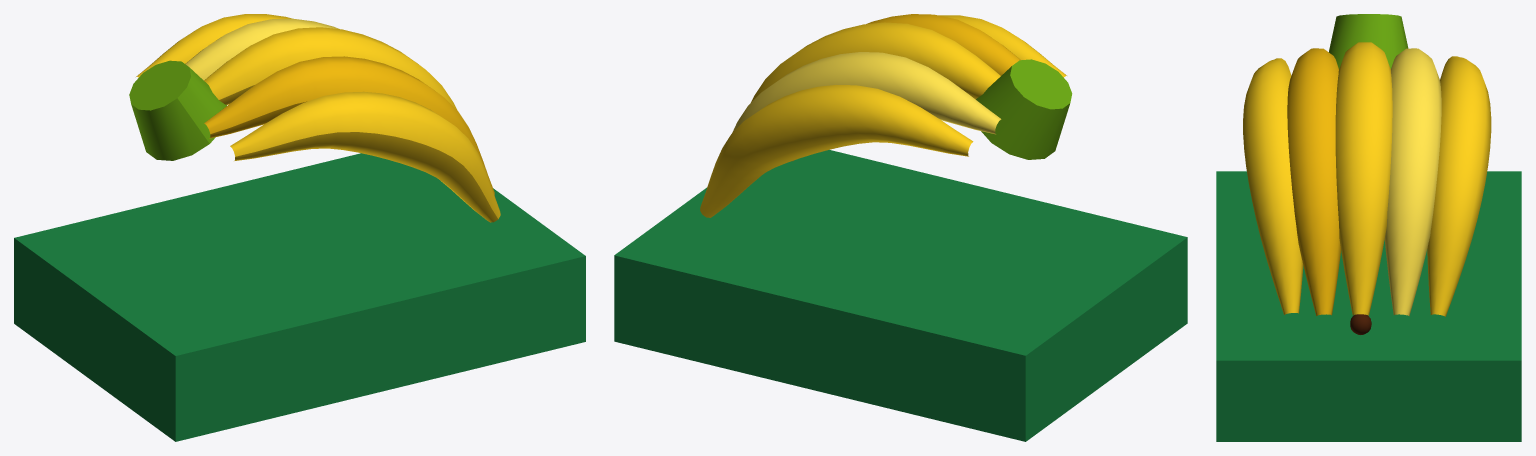
Rendered from banana-bunch.glb.
The picture shows the model from 3 angles, left to right: view 1: azimuth 30°, elevation 25°; view 2: azimuth 150°, elevation 25°; view 3: azimuth 270°, elevation 25°; orthographic projection. The views are drawn at different scales.
Visible parts, largest first — view 1: Produce_Tray, Banana_05, Banana_04, Banana_03, Banana_Crown, Banana_02, Banana_01; view 2: Produce_Tray, Banana_01, Banana_02, Banana_03, Banana_Crown, Banana_04, Banana_05; view 3: Produce_Tray, Banana_03, Banana_02, Banana_04, Banana_01, Banana_05, Banana_Crown, Tip_03.
Part boxes in pixels (x1=…): Produce_Tray: x1=14, y1=153, x2=585, y2=441; Banana_05: x1=230, y1=91, x2=500, y2=222; Banana_04: x1=204, y1=56, x2=494, y2=194; Banana_03: x1=204, y1=27, x2=457, y2=110; Banana_Crown: x1=129, y1=60, x2=226, y2=160; Banana_02: x1=185, y1=18, x2=339, y2=80; Banana_01: x1=136, y1=14, x2=291, y2=77; Produce_Tray: x1=614, y1=149, x2=1187, y2=441; Banana_01: x1=700, y1=85, x2=973, y2=217; Banana_02: x1=732, y1=52, x2=1001, y2=134; Banana_03: x1=751, y1=22, x2=1000, y2=102; Banana_Crown: x1=976, y1=59, x2=1072, y2=159; Banana_04: x1=866, y1=14, x2=1020, y2=75; Banana_05: x1=792, y1=15, x2=1066, y2=161; Produce_Tray: x1=1216, y1=171, x2=1521, y2=441; Banana_03: x1=1335, y1=42, x2=1392, y2=315; Banana_02: x1=1384, y1=48, x2=1441, y2=316; Banana_04: x1=1287, y1=48, x2=1340, y2=315; Banana_01: x1=1427, y1=56, x2=1491, y2=316; Banana_05: x1=1243, y1=58, x2=1303, y2=314; Banana_Crown: x1=1329, y1=14, x2=1408, y2=69; Tip_03: x1=1350, y1=314, x2=1371, y2=334.
Bounding box in the file's own units: 0.22 × 0.1551 × 0.15.
